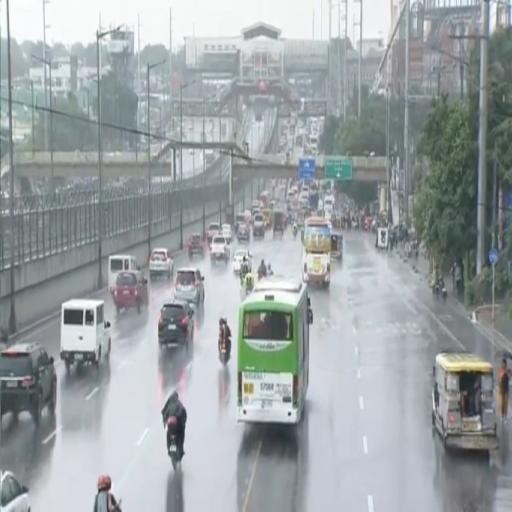bus: (237, 277, 312, 424), (302, 217, 332, 287), (260, 191, 270, 207)
car: (0, 343, 56, 425), (158, 299, 194, 347), (113, 271, 148, 312), (0, 471, 31, 511), (174, 268, 204, 305), (149, 248, 173, 280), (210, 235, 229, 264), (186, 233, 204, 260), (233, 249, 251, 274), (207, 222, 220, 245), (253, 214, 264, 237), (236, 224, 250, 242), (221, 224, 232, 244)
jeepney: (432, 351, 498, 451), (331, 231, 342, 261), (262, 208, 272, 229)
motorcycle: (167, 416, 181, 470), (219, 342, 230, 365), (439, 283, 447, 301), (112, 500, 122, 511), (258, 268, 266, 280), (292, 227, 297, 239)
